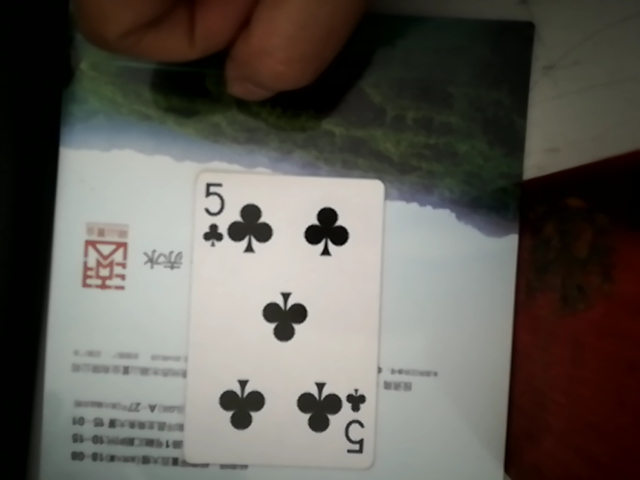mh 5: (182, 170, 379, 471)
